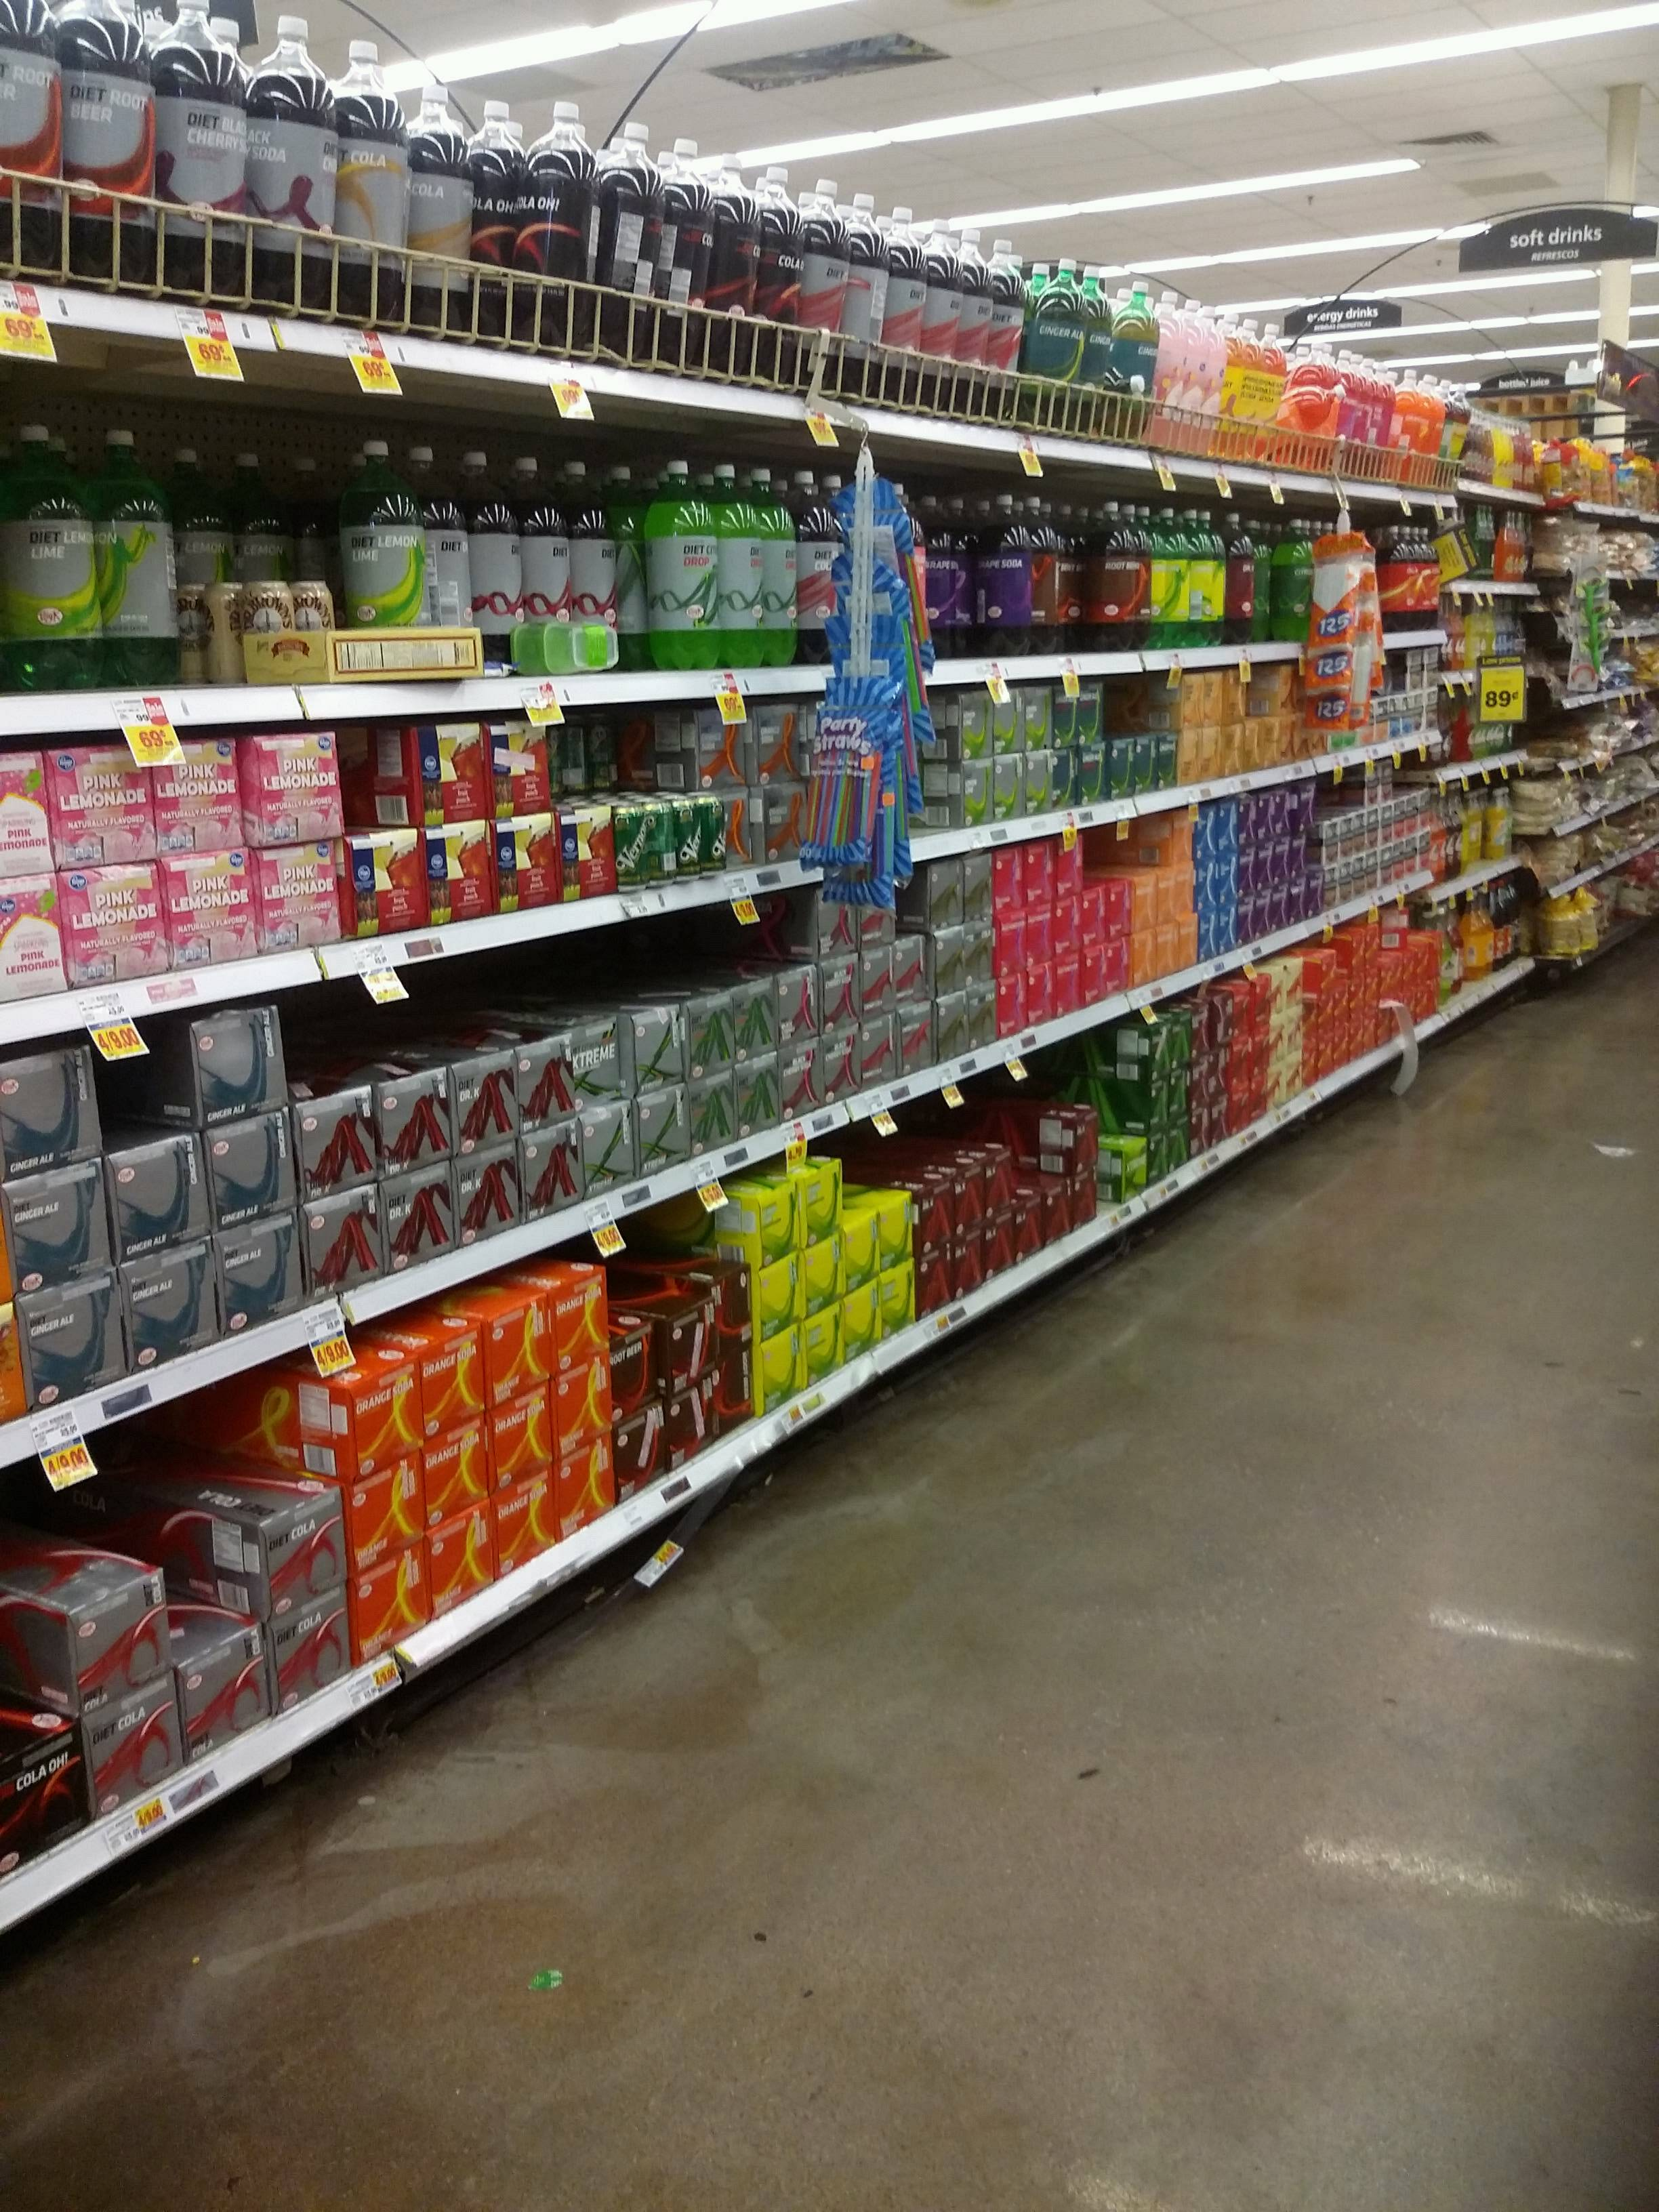Misplacement: (10, 397, 186, 698), (78, 1021, 221, 1378), (610, 1212, 753, 1512), (265, 1386, 352, 1738), (1082, 813, 1178, 1000), (547, 704, 617, 907)
Out-of-stock: (1098, 1146, 1124, 1221)
